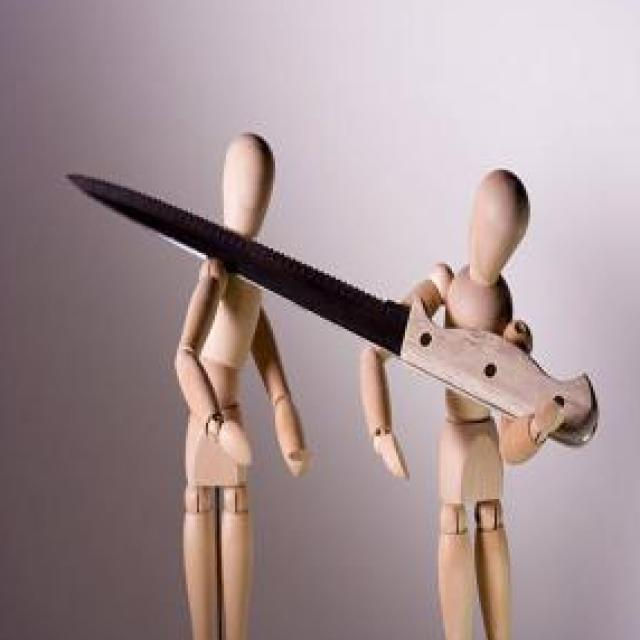knife: (65, 168, 597, 452)
